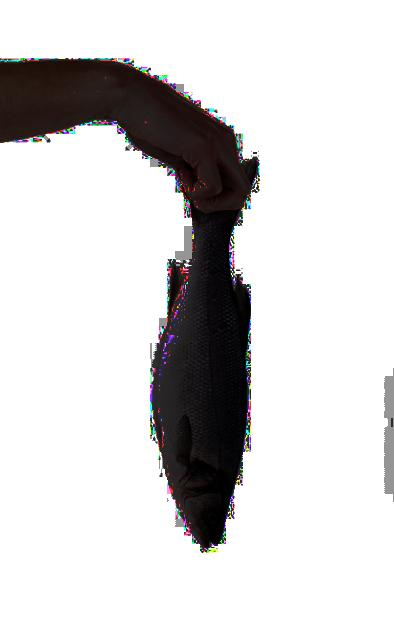Healthy Fish: (153, 209, 248, 551)
